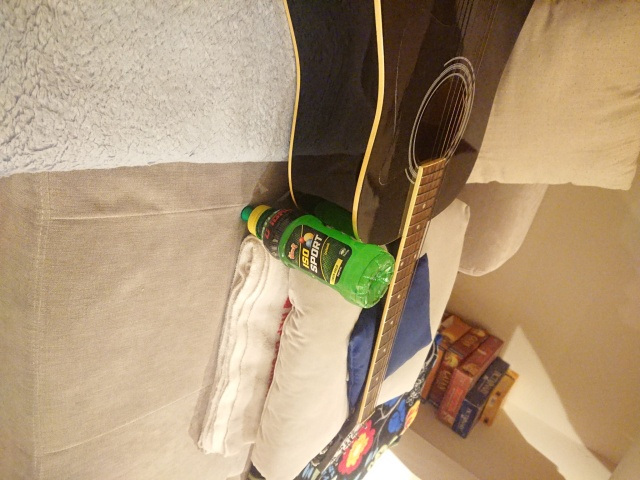Vindi Iso Sport Lemon-Grapefruit 500mL: (238, 202, 398, 311)
